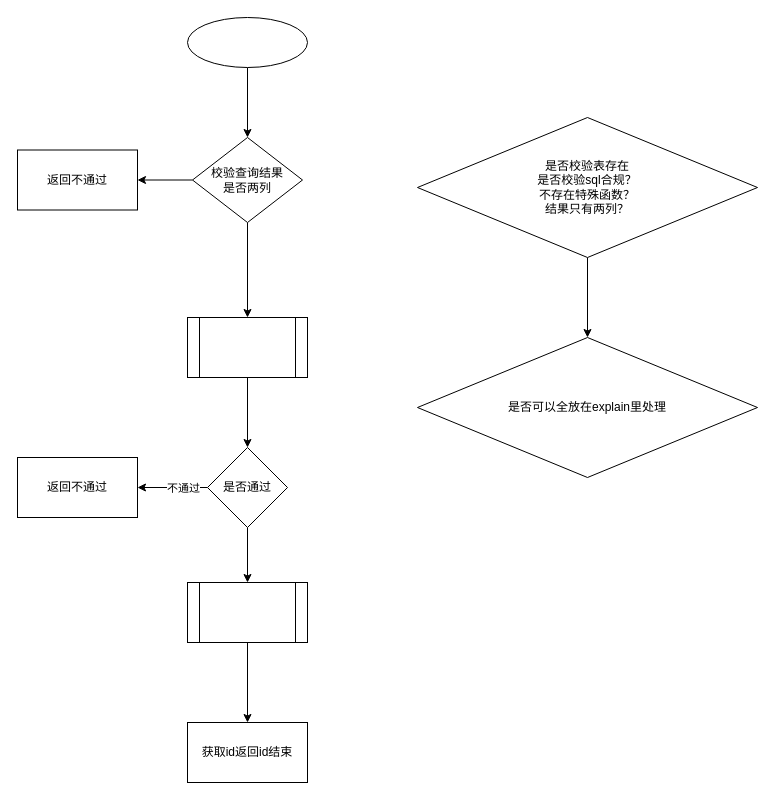
The diagram is 775 pixels wide and 800 high, and some of its shapes have lost their labels. The shapes that lost their labels are listed below. From the top down, each one's box as (x1, y1, x2, y2) in pixels, then its label:
(186, 16, 308, 68): 标签检测任务提交
(186, 316, 308, 378): odps执行 explan计划
(186, 582, 308, 642): 提交查询任务至odps平台
